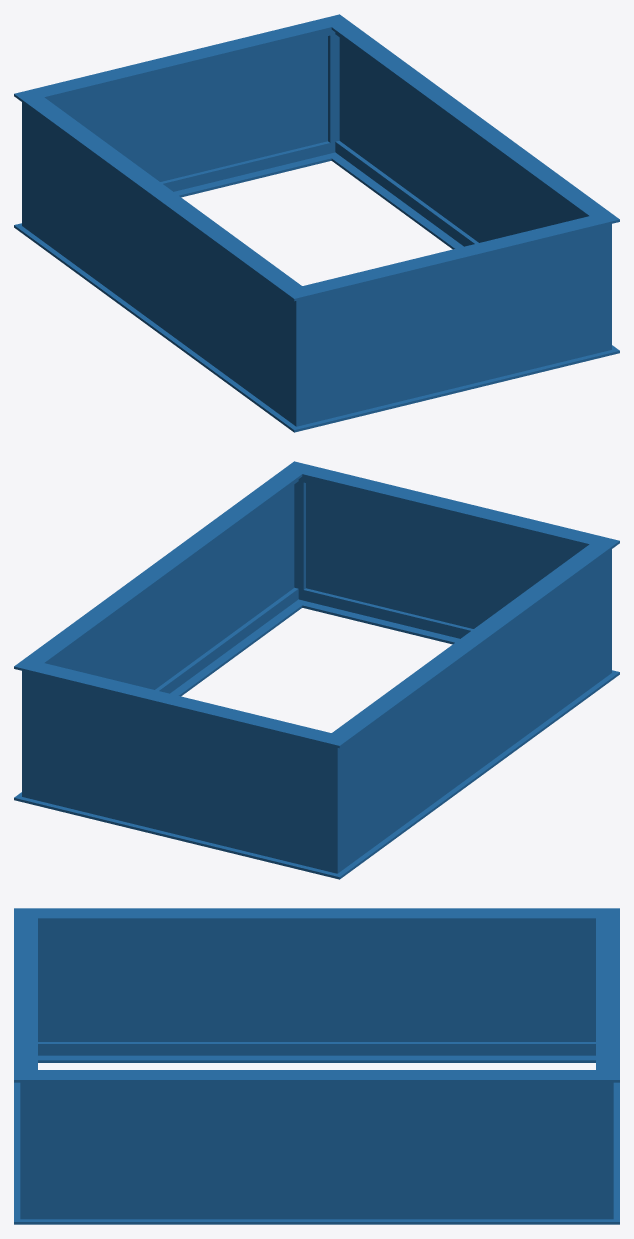
File: Phase02.fbx
3 renders of one model, top to bottom at view 1: azimuth 30°, elevation 25°; view 2: azimuth 150°, elevation 25°; view 3: azimuth 270°, elevation 25°, orthographic. The views are drawn at different scales.
Visible parts, largest first — view 1: Стальной лист (ГОСТ 19903-74) Балки:Лист 804х3720:263014, Стальной лист (ГОСТ 19903-74) Балки:Лист 804х3720:262585, Стальной лист (ГОСТ 19903-74) Балки:Лист 804х3720:262601, Профили_гнутые_замкнутые_сварные_прямоугольные_ГОСТ 30245-20 (×11), Стальной лист (ГОСТ 19903-74) Балки:Планка 18х150х3800:25904 (×4), Стальной лист (ГОСТ 19903-74) Балки:Лист 804х3720:262160, Стальной лист (ГОСТ 19903-74) Балки:Планка 18х150х3800:25729, Стальной лист (ГОСТ 19903-74) Балки:Планка 18х150х3800:25802, Стальной лист (ГОСТ 19903-74) Балки:Планка 18х150х3800:25762, Стальной лист (ГОСТ 19903-74) Балки:Планка 18х150х3800:25781; view 2: Стальной лист (ГОСТ 19903-74) Балки:Лист 804х3720:262601, Стальной лист (ГОСТ 19903-74) Балки:Лист 804х3720:262585, Стальной лист (ГОСТ 19903-74) Балки:Лист 804х3720:263014, Профили_гнутые_замкнутые_сварные_прямоугольные_ГОСТ 30245-20 (×11), Стальной лист (ГОСТ 19903-74) Балки:Лист 804х3720:262160, Стальной лист (ГОСТ 19903-74) Балки:Планка 18х150х3800:25904 (×4), Стальной лист (ГОСТ 19903-74) Балки:Планка 18х150х3800:25729, Стальной лист (ГОСТ 19903-74) Балки:Планка 18х150х3800:25781, Стальной лист (ГОСТ 19903-74) Балки:Планка 18х150х3800:25762, Стальной лист (ГОСТ 19903-74) Балки:Планка 18х150х3800:25802; view 3: Стальной лист (ГОСТ 19903-74) Балки:Лист 804х3720:262160, Стальной лист (ГОСТ 19903-74) Балки:Лист 804х3720:262585, Профили_гнутые_замкнутые_сварные_прямоугольные_ГОСТ 30245-20 (×6), Стальной лист (ГОСТ 19903-74) Балки:Планка 18х150х3800:25904 (×4), Стальной лист (ГОСТ 19903-74) Балки:Планка 18х150х3800:25729, Стальной лист (ГОСТ 19903-74) Балки:Планка 18х150х3800:25762, Стальной лист (ГОСТ 19903-74) Балки:Планка 18х150х3800:25781, Стальной лист (ГОСТ 19903-74) Балки:Планка 18х150х3800:25802.
Part boxes in pixels (x1,y1,x2,y2): Стальной лист (ГОСТ 19903-74) Балки:Лист 804х3720:263014: [301, 234, 601, 414]; Стальной лист (ГОСТ 19903-74) Балки:Лист 804х3720:262585: [25, 110, 293, 413]; Стальной лист (ГОСТ 19903-74) Балки:Лист 804х3720:262601: [53, 36, 327, 181]; Профили_гнутые_замкнутые_сварные_прямоугольные_ГОСТ 30245-20 (×11): [22, 29, 611, 426]; Стальной лист (ГОСТ 19903-74) Балки:Планка 18х150х3800:25904 (×4): [14, 14, 619, 301]; Стальной лист (ГОСТ 19903-74) Балки:Лист 804х3720:262160: [339, 37, 611, 337]; Стальной лист (ГОСТ 19903-74) Балки:Планка 18х150х3800:25729: [14, 223, 313, 432]; Стальной лист (ГОСТ 19903-74) Балки:Планка 18х150х3800:25802: [311, 353, 600, 427]; Стальной лист (ГОСТ 19903-74) Балки:Планка 18х150х3800:25762: [327, 152, 619, 357]; Стальной лист (ГОСТ 19903-74) Балки:Планка 18х150х3800:25781: [174, 154, 331, 197]; Стальной лист (ГОСТ 19903-74) Балки:Лист 804х3720:262601: [28, 681, 332, 861]; Стальной лист (ГОСТ 19903-74) Балки:Лист 804х3720:262585: [340, 557, 608, 860]; Стальной лист (ГОСТ 19903-74) Балки:Лист 804х3720:263014: [306, 483, 580, 628]; Профили_гнутые_замкнутые_сварные_прямоугольные_ГОСТ 30245-20 (×11): [22, 476, 611, 873]; Стальной лист (ГОСТ 19903-74) Балки:Лист 804х3720:262160: [22, 484, 294, 785]; Стальной лист (ГОСТ 19903-74) Балки:Планка 18х150х3800:25904 (×4): [14, 461, 619, 748]; Стальной лист (ГОСТ 19903-74) Балки:Планка 18х150х3800:25729: [320, 670, 619, 879]; Стальной лист (ГОСТ 19903-74) Балки:Планка 18х150х3800:25781: [33, 800, 322, 874]; Стальной лист (ГОСТ 19903-74) Балки:Планка 18х150х3800:25762: [14, 599, 306, 804]; Стальной лист (ГОСТ 19903-74) Балки:Планка 18х150х3800:25802: [302, 601, 459, 644]; Стальной лист (ГОСТ 19903-74) Балки:Лист 804х3720:262160: [20, 1091, 613, 1207]; Стальной лист (ГОСТ 19903-74) Балки:Лист 804х3720:262585: [38, 928, 595, 1041]; Профили_гнутые_замкнутые_сварные_прямоугольные_ГОСТ 30245-20 (×6): [20, 921, 613, 1219]; Стальной лист (ГОСТ 19903-74) Балки:Планка 18х150х3800:25904 (×4): [14, 908, 619, 1082]; Стальной лист (ГОСТ 19903-74) Балки:Планка 18х150х3800:25729: [38, 1055, 595, 1062]; Стальной лист (ГОСТ 19903-74) Балки:Планка 18х150х3800:25762: [14, 1212, 619, 1224]; Стальной лист (ГОСТ 19903-74) Балки:Планка 18х150х3800:25781: [613, 1082, 619, 1211]; Стальной лист (ГОСТ 19903-74) Балки:Планка 18х150х3800:25802: [14, 1082, 20, 1211].
Bounding box in the file's own units: 2550 × 3800 × 1000.
